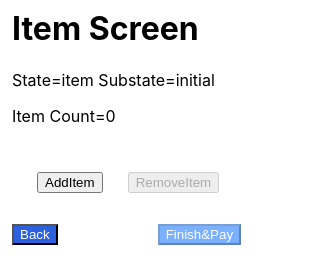
Test: Test - Test UI states › Test tender screen UI state
Click the button with id "addItem" at x=70, y=183, box x1=37 y1=172 x2=103 y2=193
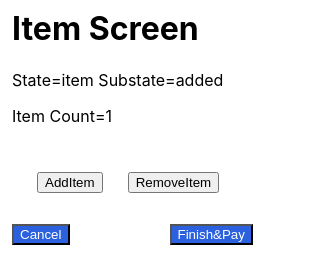
Click the button with id "totals" at x=212, y=235, box x1=170 y1=224 x2=253 y2=245
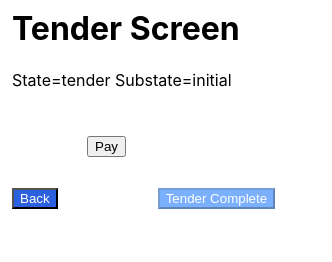
Now the text "State=tender Substate=initial" is shown, box x1=12 y1=70 x2=232 y2=90
